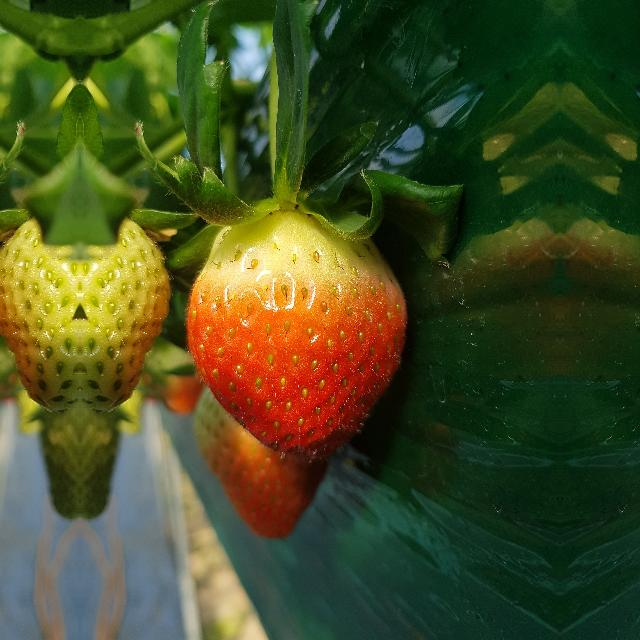Health_25: (80, 205, 166, 408), (0, 205, 80, 408)
Health_75: (185, 209, 408, 461)
